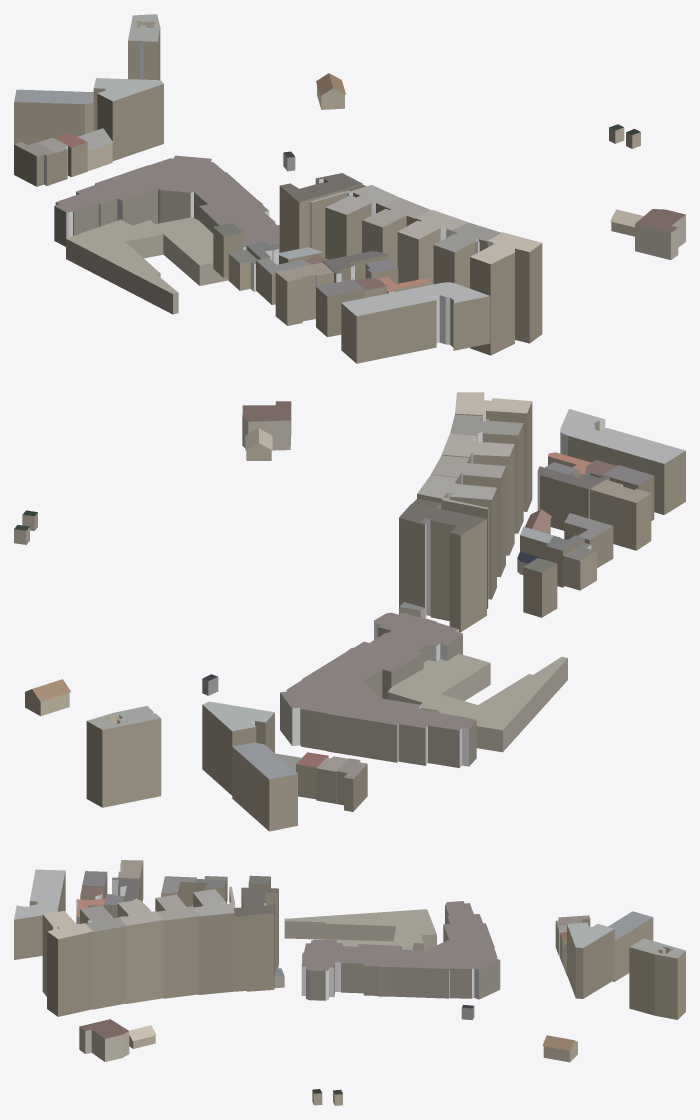
3 renders of one model, top to bottom at view 1: azimuth 30°, elevation 25°; view 2: azimuth 150°, elevation 25°; view 3: azimuth 270°, elevation 25°, orthographic. The views are drawn at different scales.
Visible parts, largest first — view 1: tuile; view 2: tuile; view 3: tuile.
Boxes of the visible parts, <box> form: tuile: <box>14,14,685,363</box>; tuile: <box>14,392,685,831</box>; tuile: <box>14,860,685,1105</box>.
Bounding box in the file's own units: 200 × 42.01 × 270.
